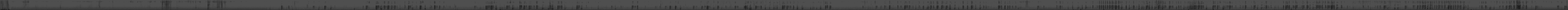Moan: (706, 0, 709, 10), (904, 0, 907, 10), (1285, 0, 1287, 10), (1288, 0, 1290, 10), (1518, 0, 1520, 10), (946, 0, 947, 10)
